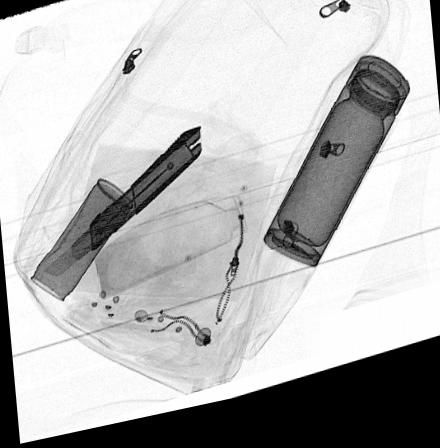Knife: (40, 134, 201, 280)
